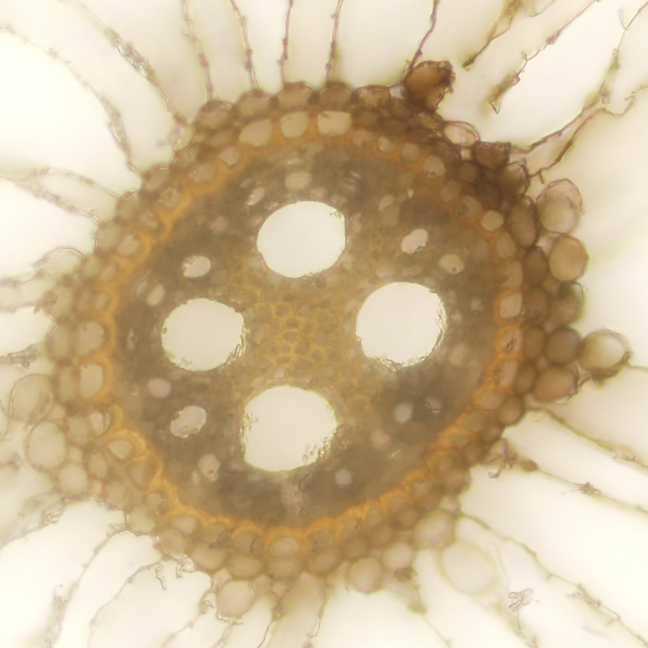lm: (239, 384, 336, 471), (355, 281, 447, 370), (255, 200, 346, 279), (159, 297, 247, 372)
